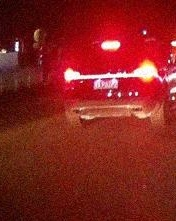L_light: (64, 67, 83, 82)
R_light: (132, 62, 157, 78)
T_light: (101, 40, 120, 50)
night-brake: (63, 34, 163, 124)
